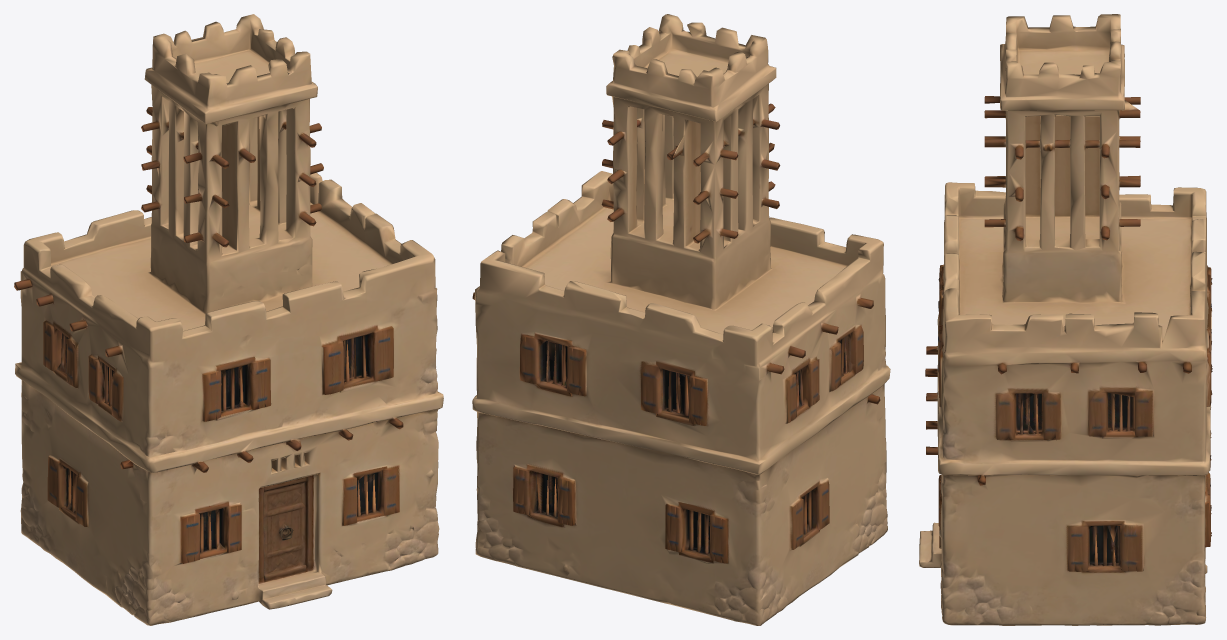
The model's file is bab_windtower.glb.
3 renders of one model, left to right at view 1: azimuth 30°, elevation 25°; view 2: azimuth 150°, elevation 25°; view 3: azimuth 270°, elevation 25°, orthographic. The views are drawn at different scales.
Size of the model in its own units: 0.6341 by 0.9786 by 0.5059.
Materials: 1 (1 with a texture image).
